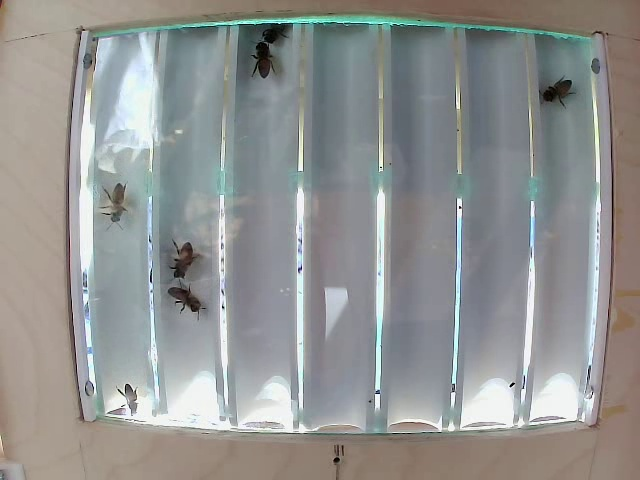bee: (96, 181, 138, 233), (169, 238, 205, 275), (243, 38, 274, 79), (163, 286, 204, 314)
